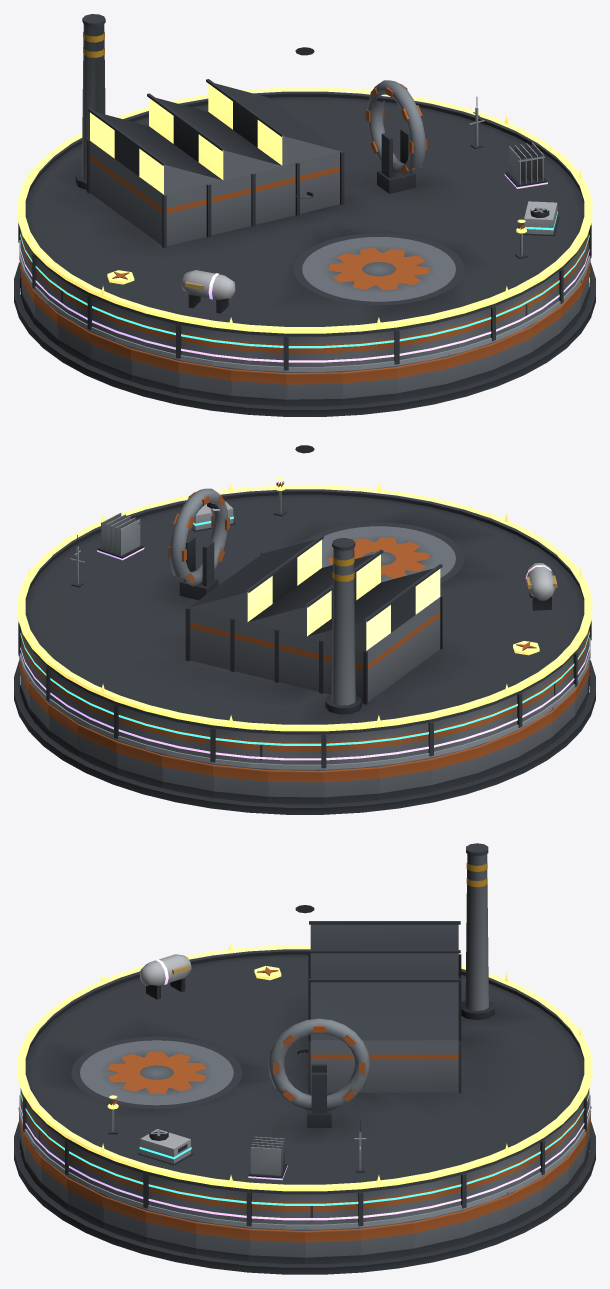
File: magnet_works_l_far.glb
3 renders of one model, top to bottom at view 1: azimuth 30°, elevation 25°; view 2: azimuth 150°, elevation 25°; view 3: azimuth 270°, elevation 25°, orthographic.
Parts seen in each view (by area): view 1: Roof, Base, L5, L4, L2, L3; view 2: Roof, Base, L5, L4, L2, L3; view 3: Roof, Base, L5, L4, L2, L3.
Part boxes in pixels (<box>): Roof: <box>18,14,591,370</box>; Base: <box>14,260,595,416</box>; L5: <box>17,84,592,333</box>; L4: <box>20,142,589,362</box>; L2: <box>19,97,590,371</box>; L3: <box>20,191,589,348</box>; Roof: <box>18,445,591,768</box>; Base: <box>14,658,595,814</box>; L5: <box>17,477,592,731</box>; L4: <box>20,512,589,760</box>; L2: <box>19,535,590,769</box>; L3: <box>20,500,589,745</box>; Roof: <box>20,843,589,1226</box>; Base: <box>14,1106,595,1274</box>; L5: <box>17,942,592,1191</box>; L4: <box>20,954,589,1220</box>; L2: <box>19,1094,590,1229</box>; L3: <box>20,1049,589,1205</box>.
Size of the model in its own units: 18.96 by 8.72 by 18.96.
